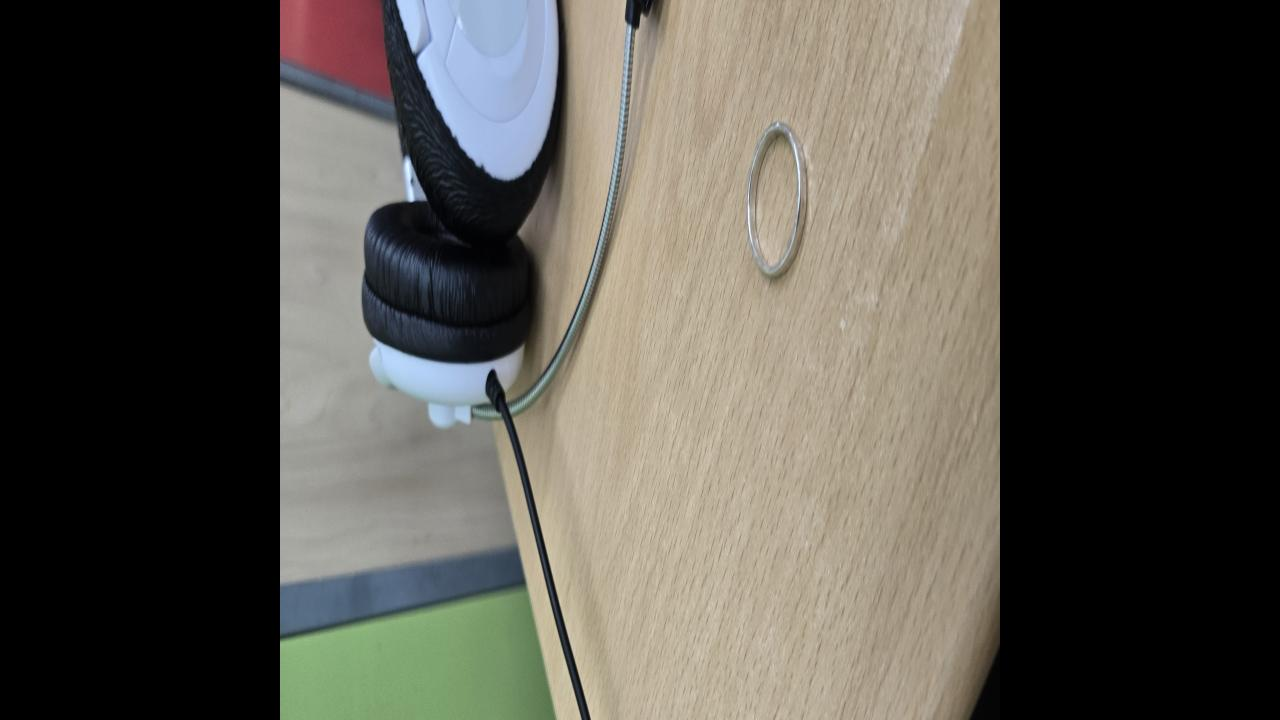ring: (746, 122, 810, 282)
